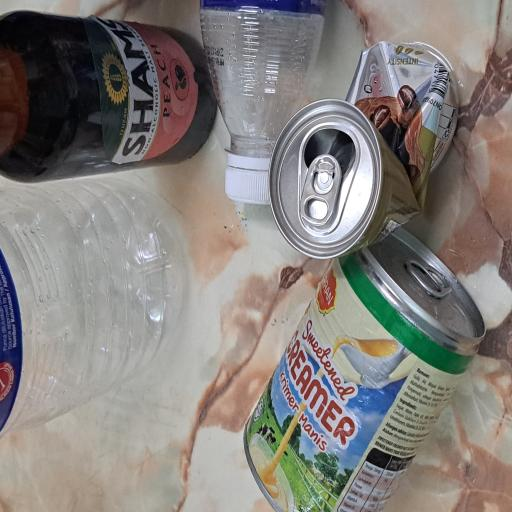can: (0, 322, 216, 512), (188, 359, 353, 512)
glass bottle: (249, 0, 384, 290)
plastic bottle: (50, 0, 248, 251), (266, 264, 384, 440)
plastic bottle cap: (231, 301, 266, 362)
pop tab: (216, 398, 269, 455)
